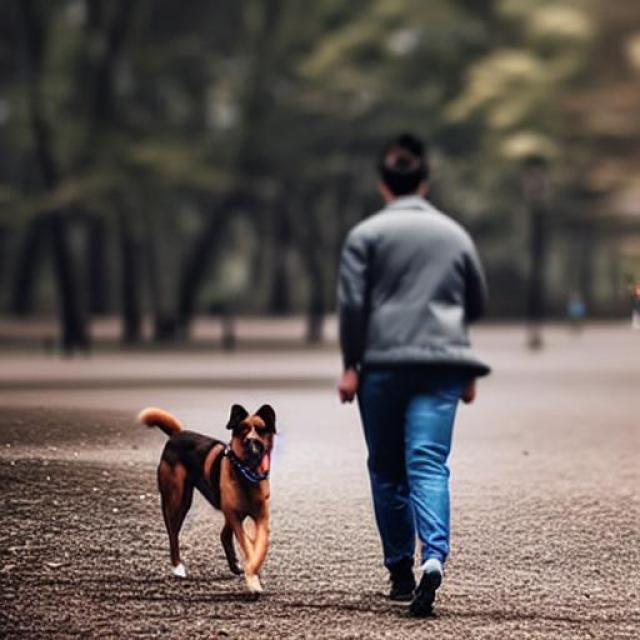Unleashed_Dog: (137, 337, 457, 596)
